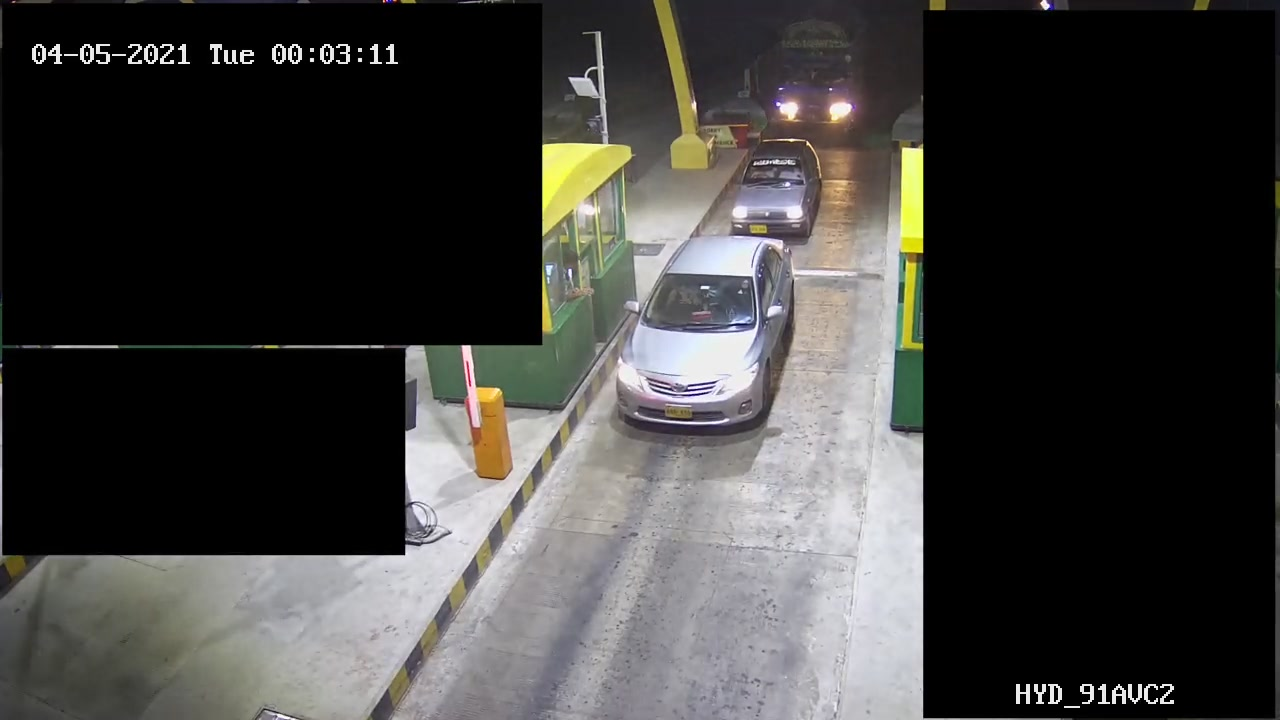F1: (607, 233, 804, 447), (720, 138, 830, 237)
